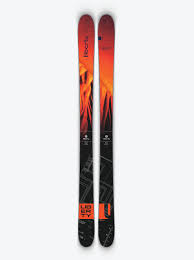skis: (76, 13, 117, 247)
